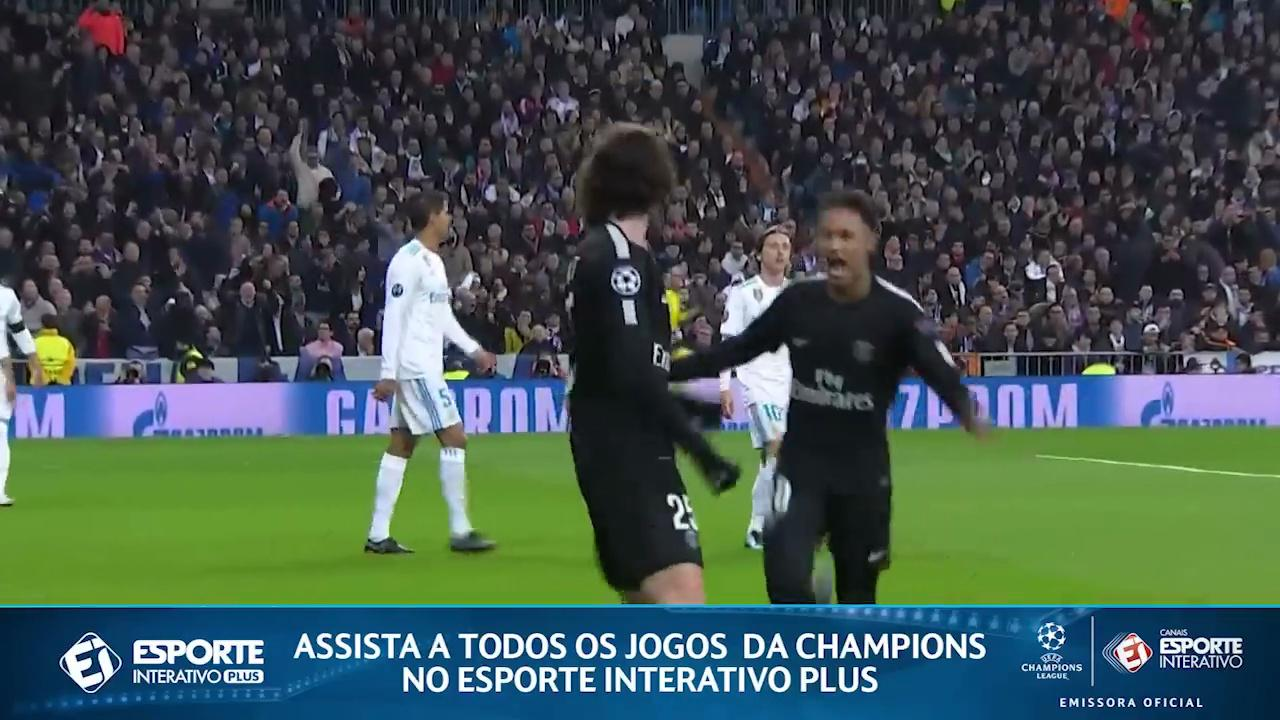player: (672, 192, 985, 603), (567, 124, 738, 603), (365, 190, 494, 553), (720, 347, 790, 548), (0, 339, 16, 506)
